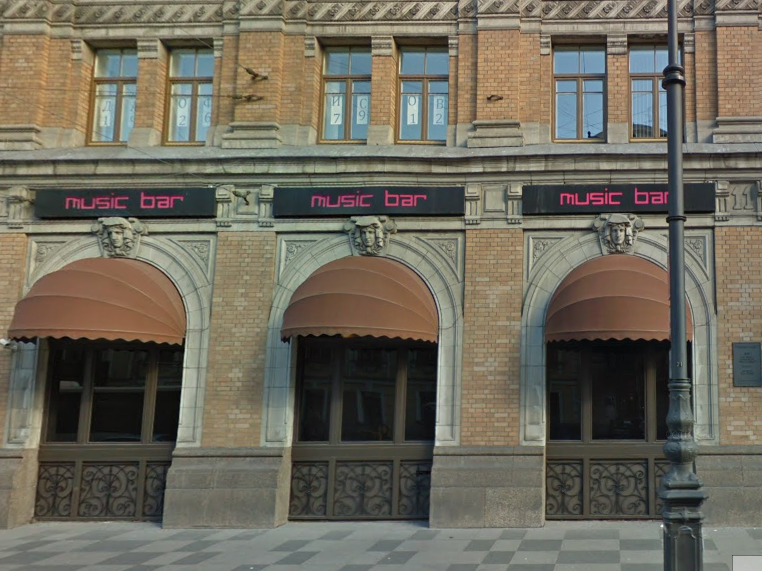signboard: (33, 184, 221, 221), (270, 184, 470, 216), (521, 183, 719, 215)
window: (32, 341, 183, 441), (298, 343, 444, 440), (545, 343, 669, 439), (395, 38, 450, 143), (554, 40, 608, 144), (315, 43, 363, 146), (168, 41, 210, 150), (629, 36, 671, 139), (91, 43, 131, 145)
